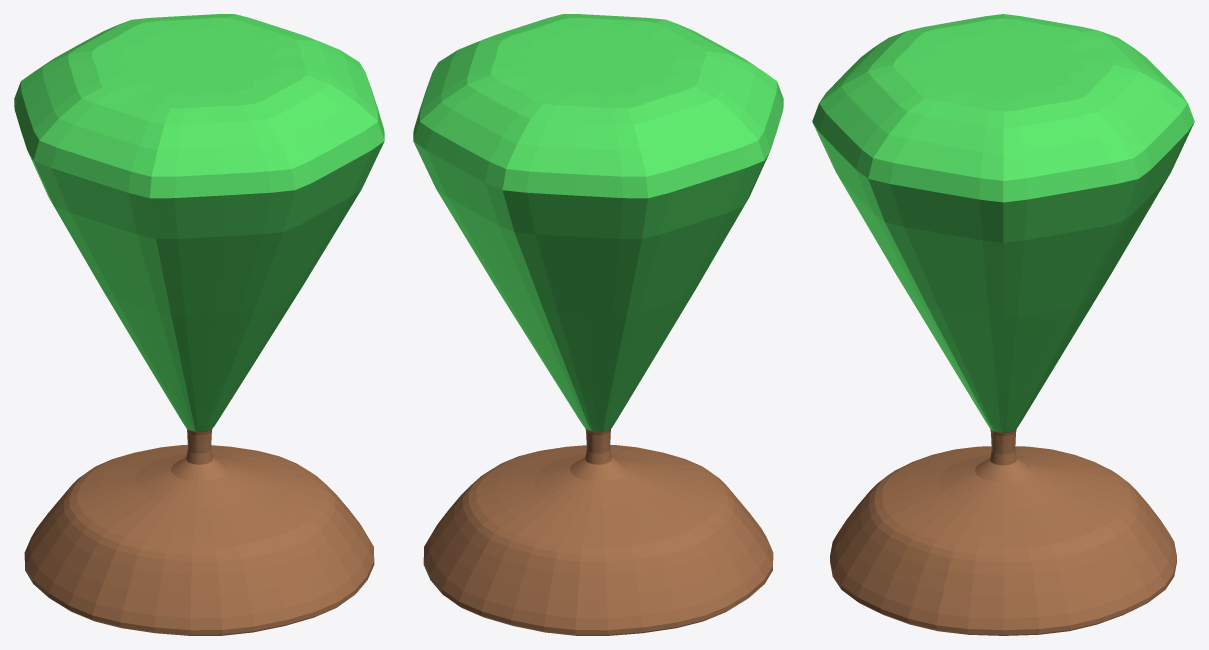
File: premio.fbx
3 views of the same model, side by side, from view 1: azimuth 30°, elevation 25°; view 2: azimuth 150°, elevation 25°; view 3: azimuth 270°, elevation 25° (orthographic).
Parts seen in each view (by area): view 1: Cone; view 2: Cone; view 3: Cone.
Boxes of the visible parts, <box> form: Cone: <box>14,14,384,635</box>; Cone: <box>413,14,783,635</box>; Cone: <box>812,14,1194,635</box>.
Size of the model in its own units: 27.53 by 39.85 by 27.53.
